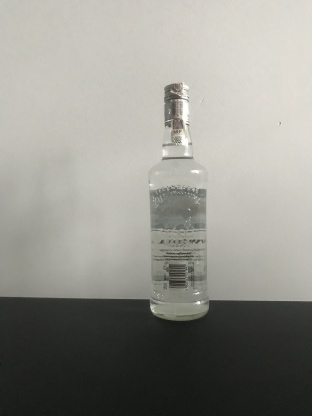nakretka: (162, 80, 191, 128)
